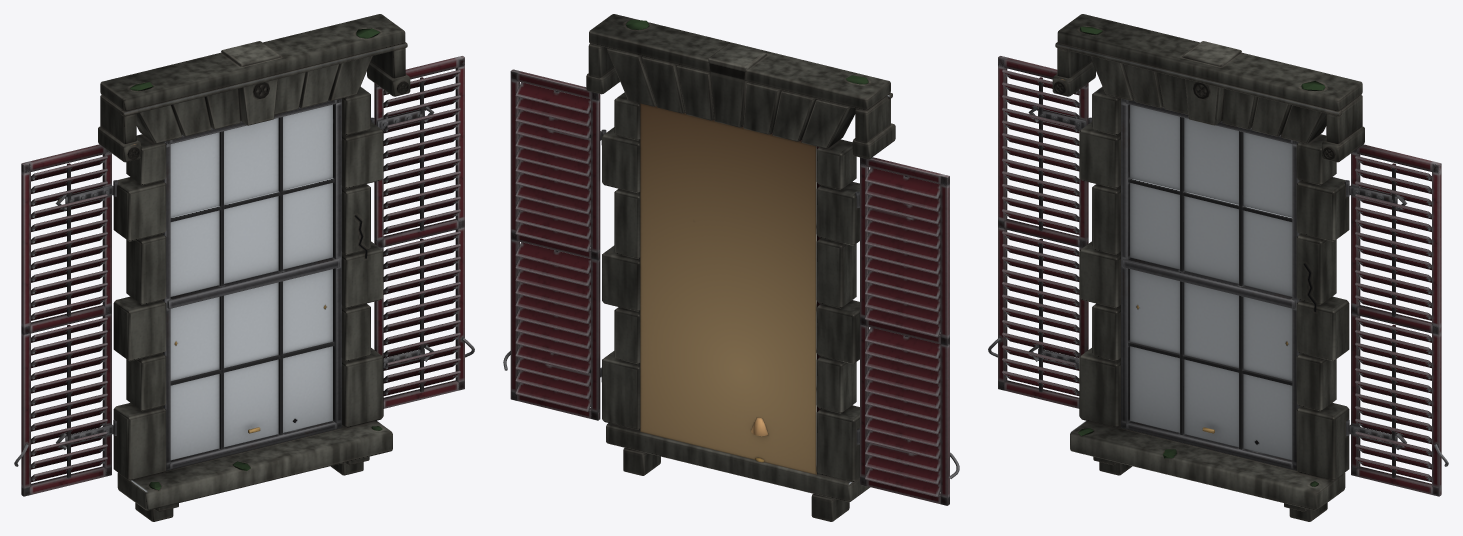
The model's file is TownWindow.fbx.
The picture shows the model from 3 angles, left to right: view 1: azimuth 30°, elevation 25°; view 2: azimuth 150°, elevation 25°; view 3: azimuth 330°, elevation 25°; orthographic projection.
Parts seen in each view (by area): view 1: TownWindow_Main, TownWindow_Glass; view 2: TownWindow_Main; view 3: TownWindow_Main, TownWindow_Glass.
Boxes of the visible parts, <box> form: TownWindow_Main: <box>14,14,474,521</box>; TownWindow_Glass: <box>170,104,332,460</box>; TownWindow_Main: <box>503,14,959,521</box>; TownWindow_Main: <box>988,14,1448,521</box>; TownWindow_Glass: <box>1130,104,1292,460</box>.
Bounding box in the file's own units: 724 × 662 × 94.35.
